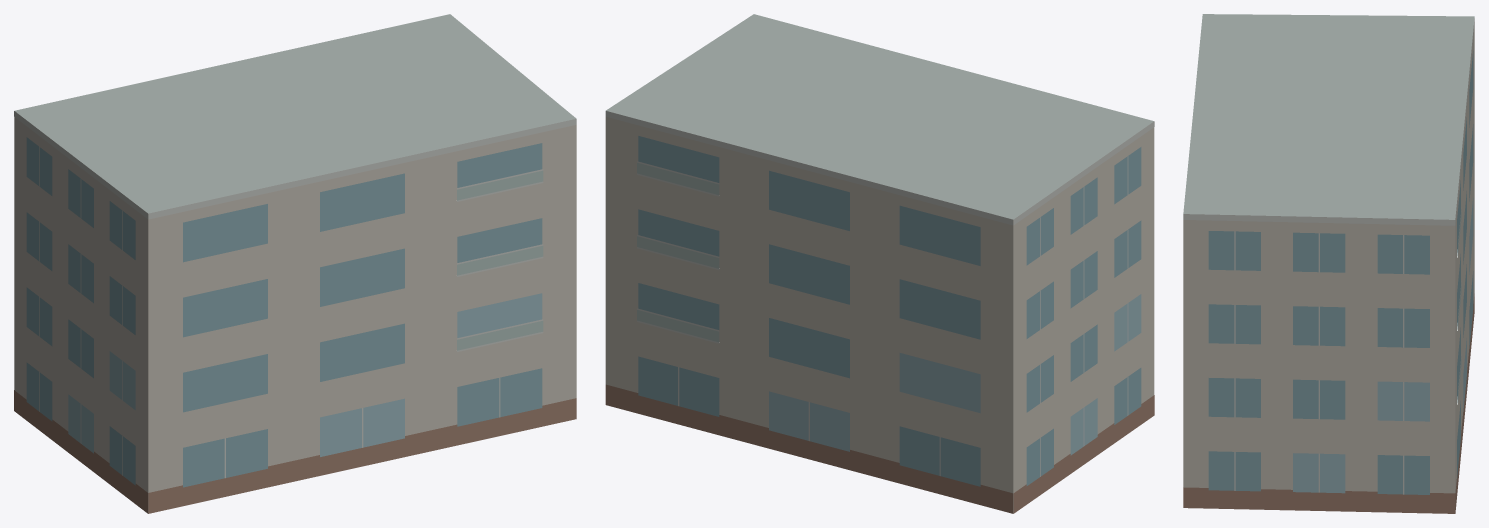
The model's file is survey-upis-32576301.glb.
The picture shows the model from 3 angles, left to right: view 1: azimuth 30°, elevation 25°; view 2: azimuth 150°, elevation 25°; view 3: azimuth 270°, elevation 25°; orthographic projection. The views are drawn at different scales.
Visible parts, largest first — view 1: survey-upis-32576301.tmp; view 2: survey-upis-32576301.tmp; view 3: survey-upis-32576301.tmp.
Boxes of the visible parts, box(x1,y1,x2,y2) form: survey-upis-32576301.tmp: box(14, 14, 576, 513); survey-upis-32576301.tmp: box(605, 14, 1154, 513); survey-upis-32576301.tmp: box(1183, 14, 1474, 513).
Bounding box in the file's own units: 18.34 × 12.2 × 10.97.
